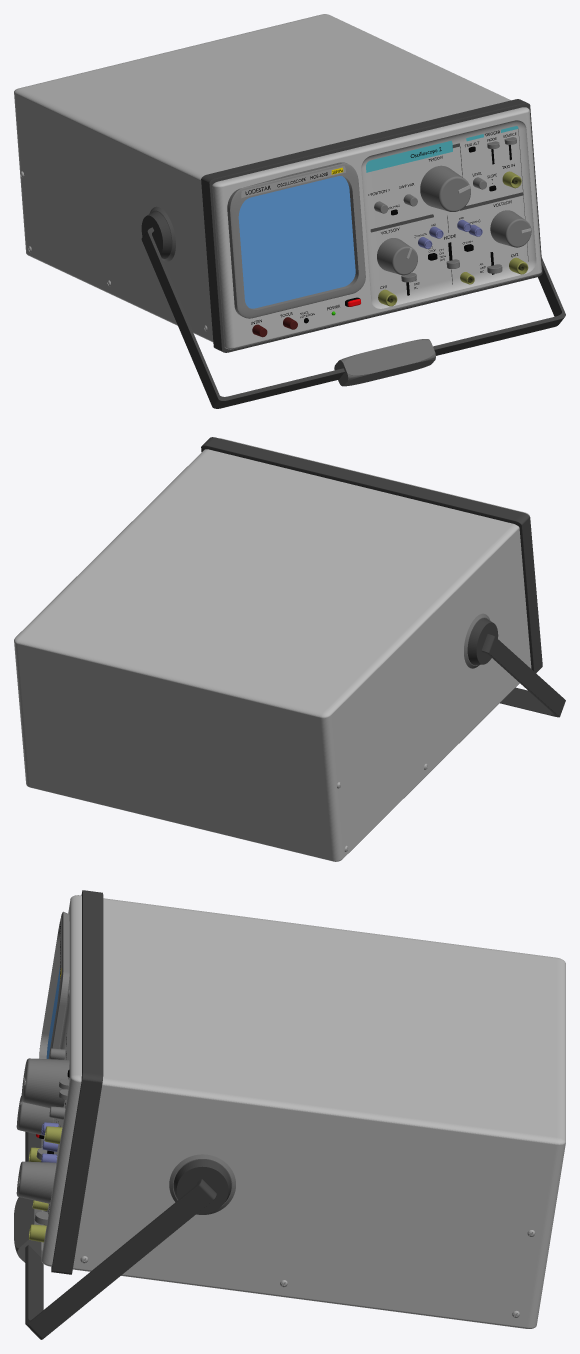
File: oscilloscope.opt.glb
3 views of the same model, one above another, from view 1: azimuth 30°, elevation 25°; view 2: azimuth 150°, elevation 25°; view 3: azimuth 270°, elevation 25° (orthographic). The views are drawn at different scales.
Parts seen in each view (by area): view 1: Cube.002, Cube.012, Cube.013, Cube.014, Cube.001, Cube.015, Cylinder, Cylinder.016, Cylinder.009, Grid.013, Cylinder.027, Grid.016; view 2: Cube.002, Cube.013, Cube.014, Cylinder.027; view 3: Cube.002, Cube.013, Cube.014, Cube.001, Cylinder, Cylinder.001, Cylinder.016, Cube.015, Cylinder.009, Cylinder.026.
Part boxes in pixels (x1=…): Cube.002: x1=14, y1=14, x2=541, y2=349; Cube.012: x1=238, y1=176, x2=355, y2=308; Cube.013: x1=201, y1=99, x2=542, y2=352; Cube.014: x1=141, y1=227, x2=565, y2=408; Cube.001: x1=227, y1=162, x2=365, y2=318; Cube.015: x1=334, y1=339, x2=435, y2=386; Cylinder: x1=420, y1=165, x2=470, y2=211; Cylinder.016: x1=490, y1=210, x2=531, y2=247; Cylinder.009: x1=377, y1=238, x2=417, y2=275; Grid.013: x1=366, y1=140, x2=452, y2=172; Cylinder.027: x1=141, y1=211, x2=171, y2=258; Grid.016: x1=241, y1=165, x2=345, y2=198; Cube.002: x1=14, y1=438, x2=531, y2=861; Cube.013: x1=201, y1=437, x2=542, y2=672; Cube.014: x1=481, y1=634, x2=565, y2=717; Cylinder.027: x1=467, y1=618, x2=498, y2=665; Cube.002: x1=41, y1=895, x2=565, y2=1328; Cube.013: x1=51, y1=890, x2=103, y2=1274; Cube.014: x1=25, y1=1131, x2=216, y2=1339; Cube.001: x1=39, y1=911, x2=69, y2=1058; Cylinder: x1=21, y1=1058, x2=69, y2=1108; Cylinder.001: x1=173, y1=1159, x2=231, y2=1213; Cylinder.016: x1=16, y1=1161, x2=56, y2=1203; Cube.015: x1=14, y1=1197, x2=41, y2=1262; Cylinder.009: x1=16, y1=1096, x2=54, y2=1135; Cylinder.026: x1=169, y1=1154, x2=235, y2=1214.
Bounding box in the file's own units: 11.63 × 7.06 × 13.28.
